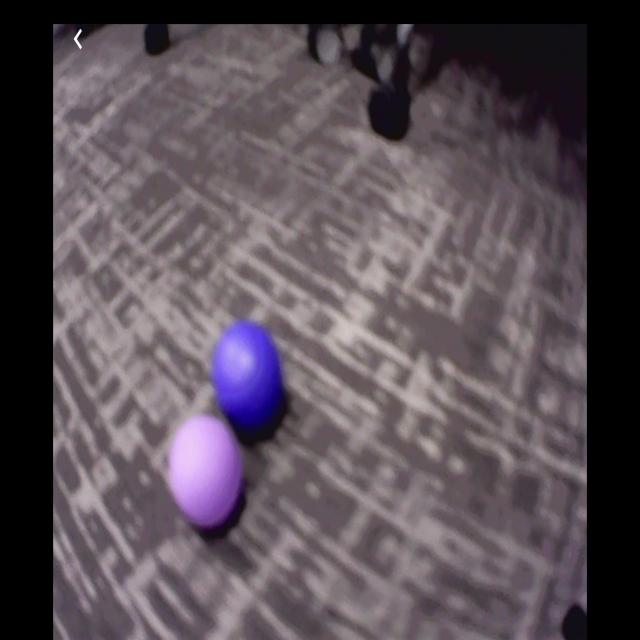ball: (213, 318, 284, 436), (171, 419, 242, 528)
